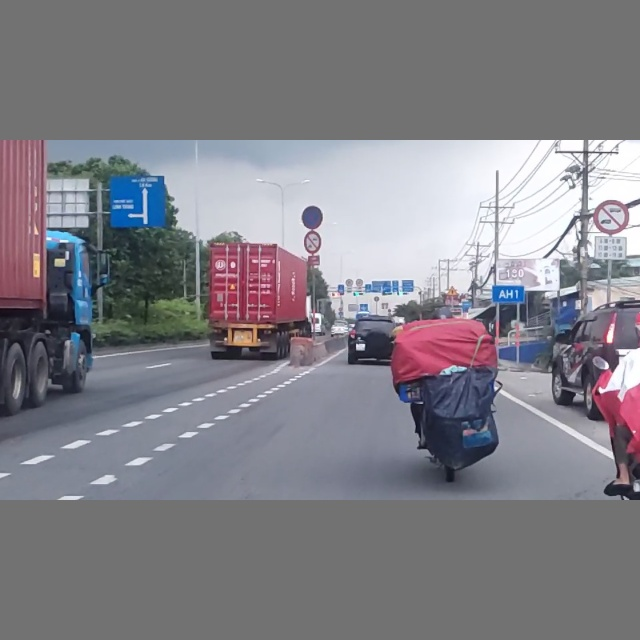P.107: (593, 199, 628, 234)
P.111: (303, 230, 322, 253)
P.130: (301, 205, 323, 228)
